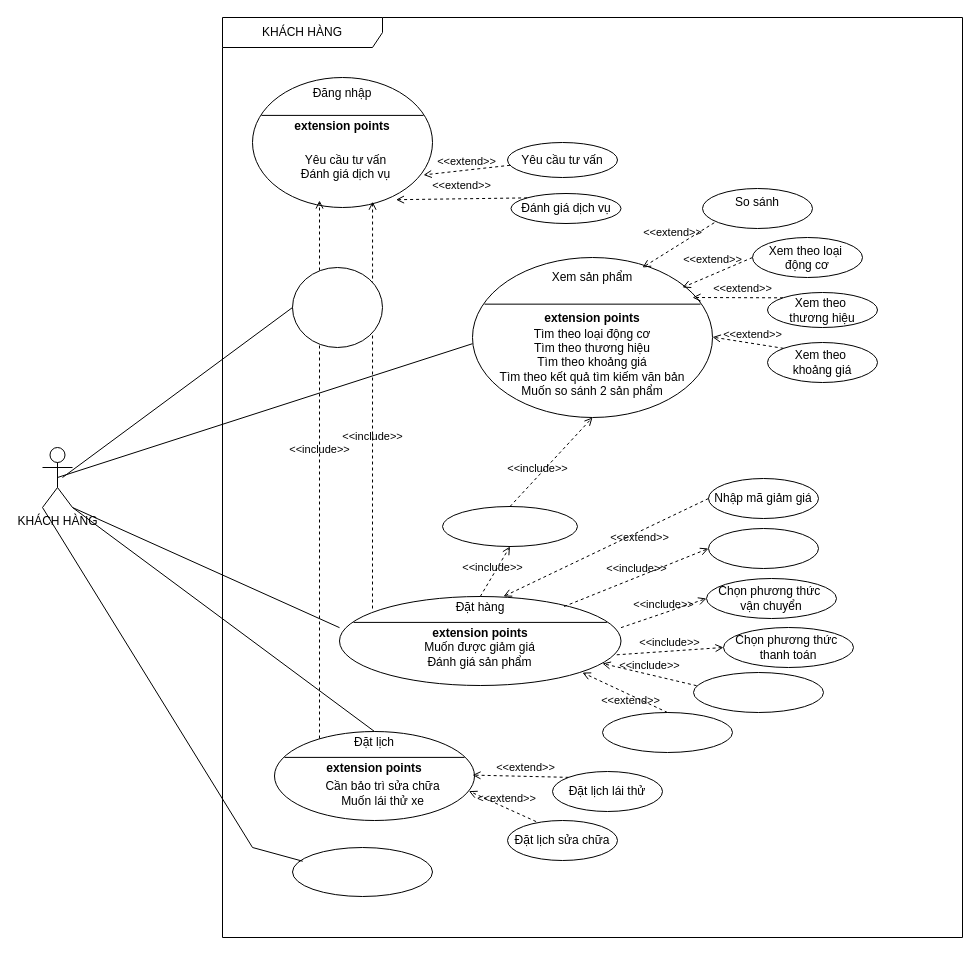
Image size: 980x955. Some labels were removed from this diagram. The centre of each missing label's shape, as x and y in pixels:
"Nhập thông tin nhận hàng" belongs at (763,548).
"Quản lí thông tin cá nhân" belongs at (337,307).
"Thêm vào giỏ hàng" belongs at (510,526).
"Xem câu hỏi thường gặp" belongs at (362,871).
"Xem sổ bảo hành" belongs at (758,692).
"Đánh giá sản phẩm" belongs at (667,732).
